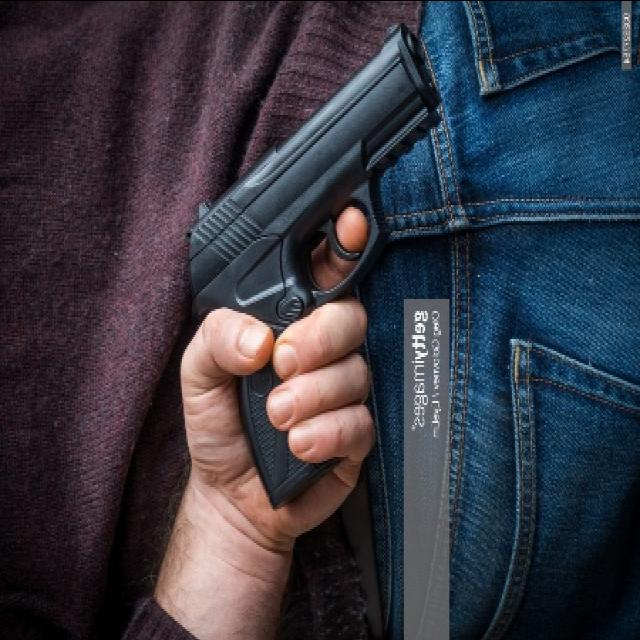handgun: (183, 15, 441, 509)
